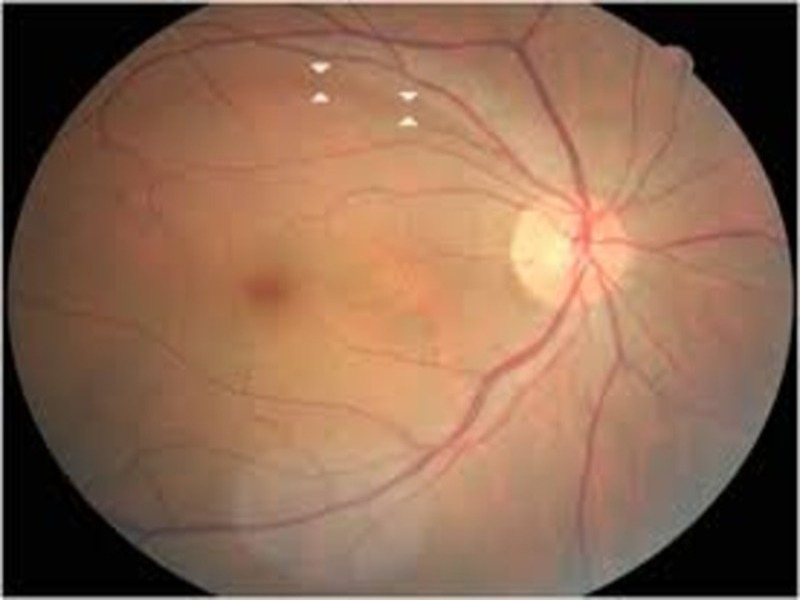Optic Cup: (511, 209, 573, 300)
Optic Disc: (507, 184, 631, 310)
